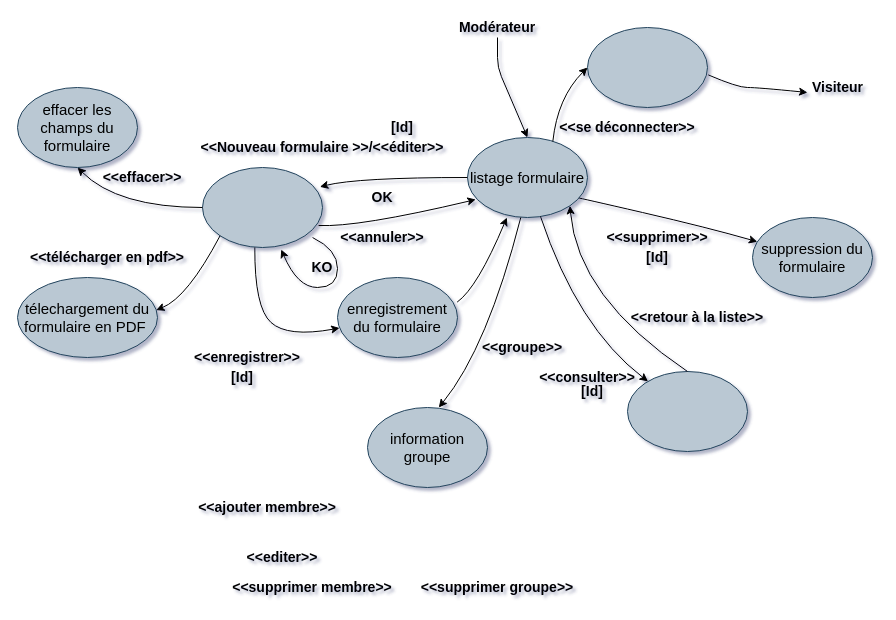
This 896x620 diagram has some shape labels left out. Each missing label, with the centre of its shape:
"affichage du formulaire" goes at (687,411).
"création ou modification du formulaire" goes at (262,207).
"déconnexion" goes at (647,67).
